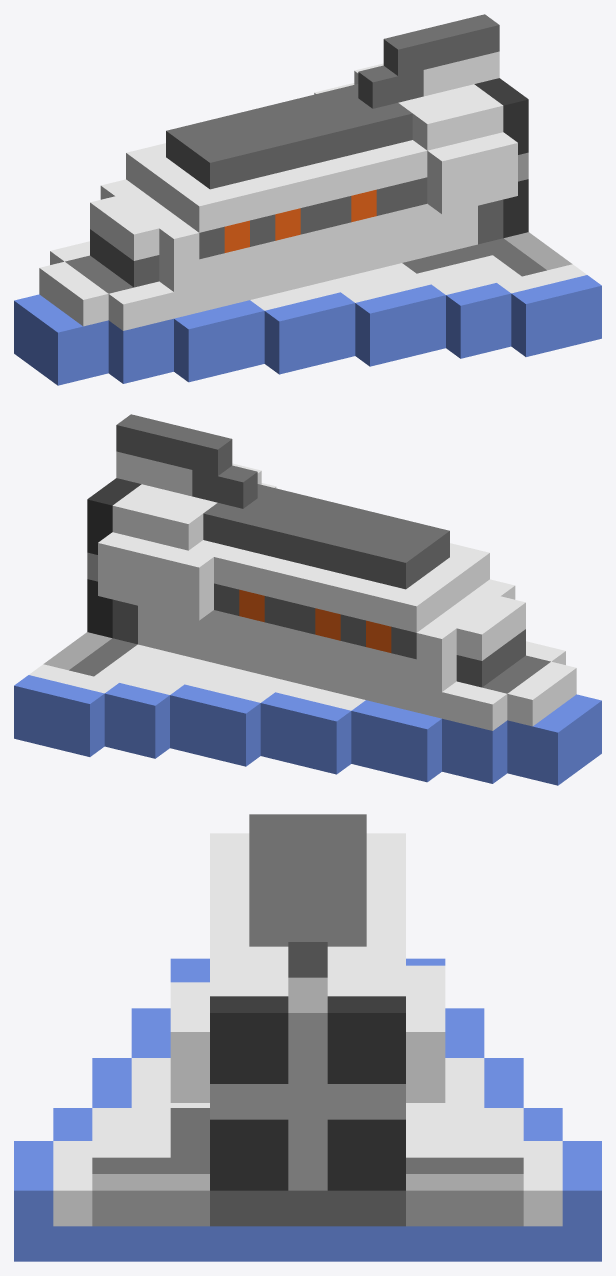
3 renders of one model, top to bottom at view 1: azimuth 30°, elevation 25°; view 2: azimuth 150°, elevation 25°; view 3: azimuth 270°, elevation 25°, orthographic. The views are drawn at different scales.
Parts seen in each view (by area): view 1: 对象; view 2: 对象; view 3: 对象.
Part boxes in pixels (box(x1,y1,x2,y2)): 对象: box(14, 14, 601, 385); 对象: box(14, 414, 601, 785); 对象: box(14, 814, 601, 1261).
Bounding box in the file's own units: 18 × 9 × 15.
Materials: 1 (1 with a texture image).
